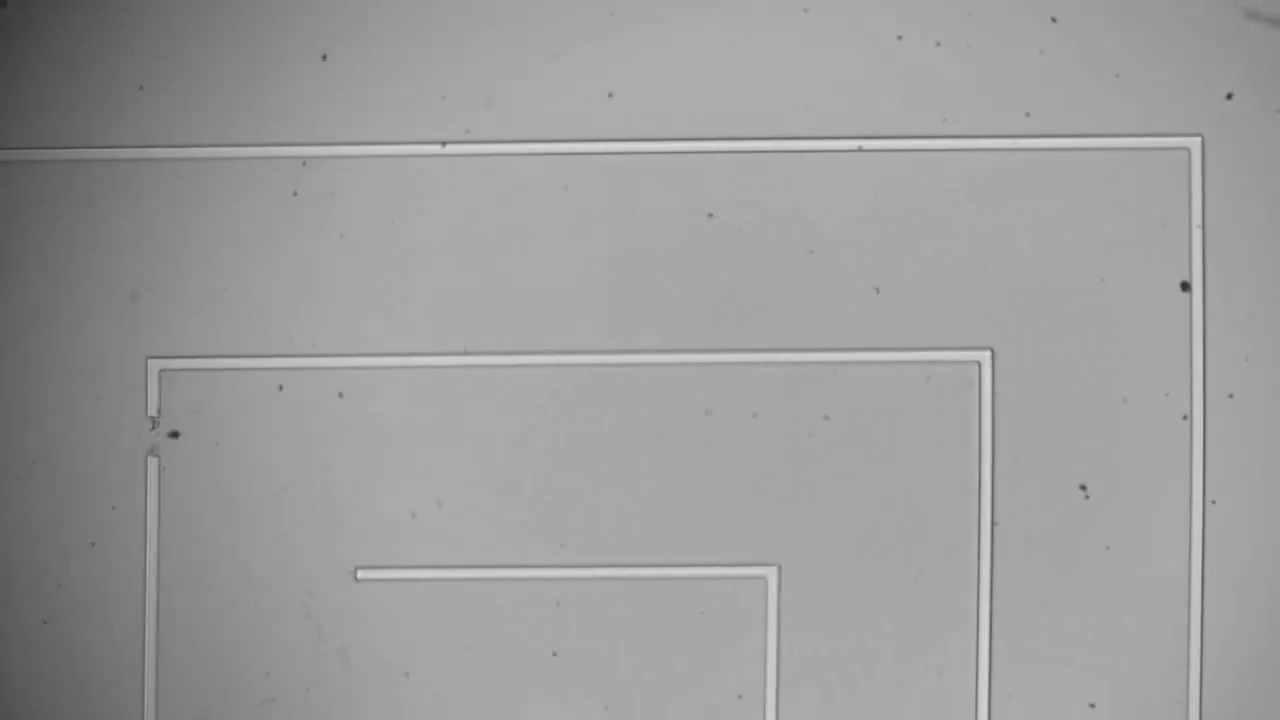open: (129, 383, 179, 475)
